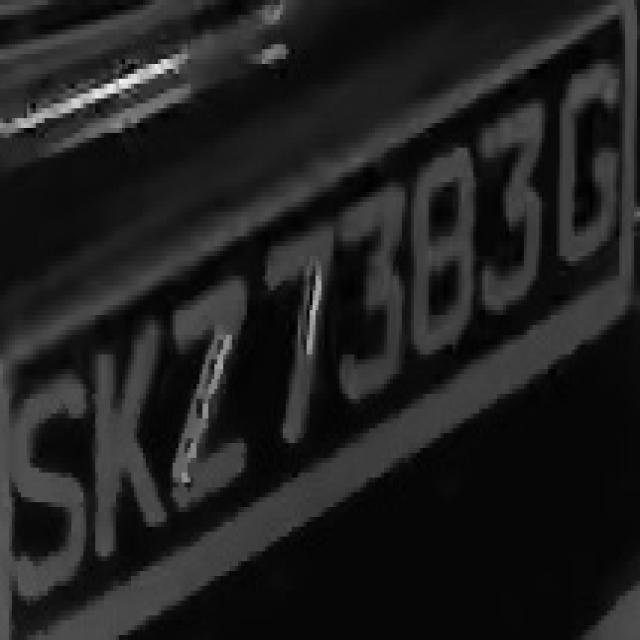3: (327, 178, 411, 418), (470, 89, 548, 325)
7: (247, 217, 345, 453)
8: (393, 148, 482, 369)
G: (554, 54, 631, 286)
K: (83, 300, 176, 566)
S: (12, 360, 92, 610)
Z: (155, 280, 265, 532)
